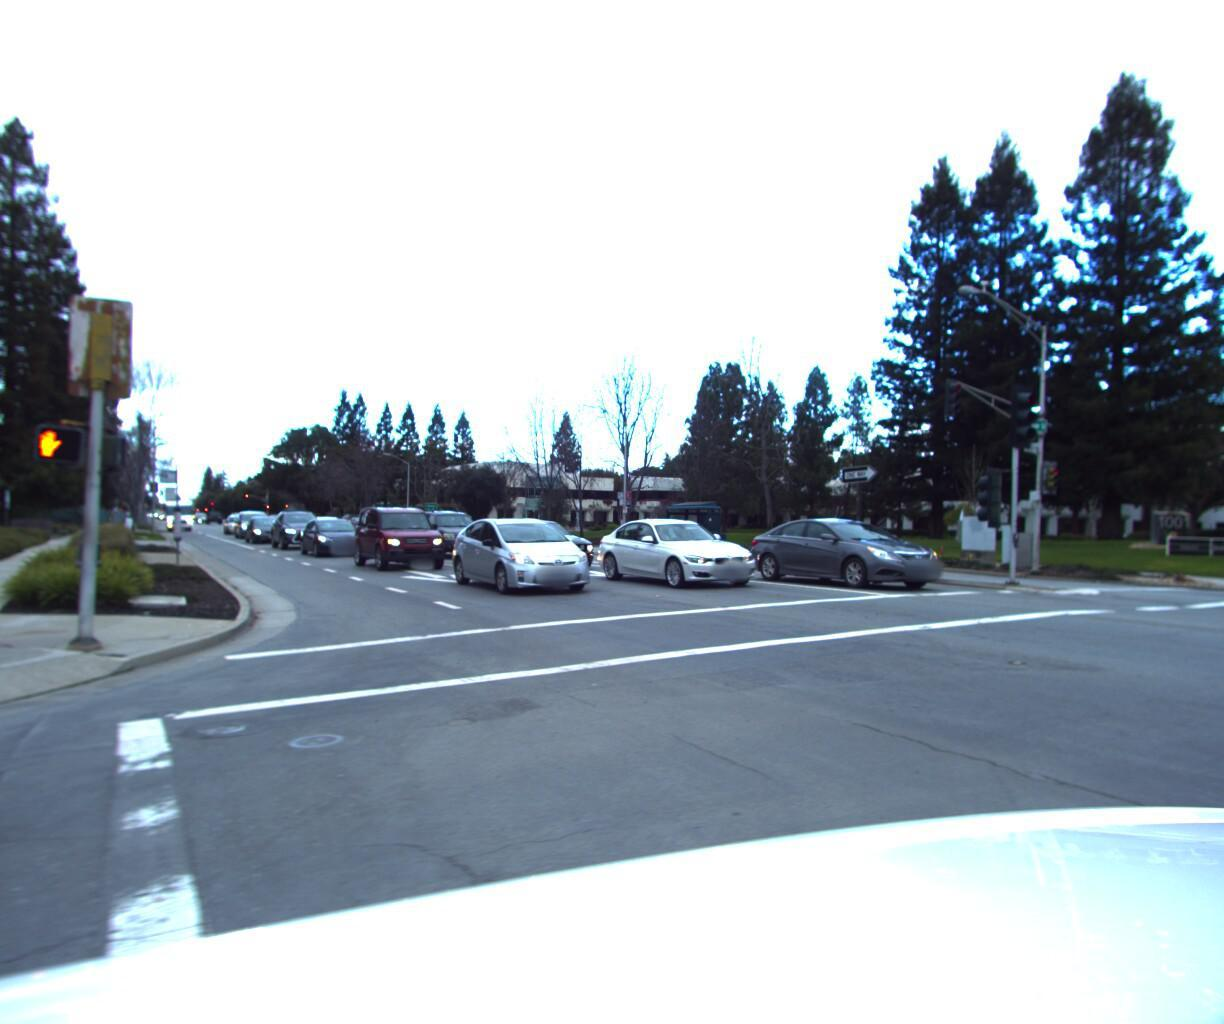car: (741, 504, 958, 592), (588, 509, 769, 588), (441, 506, 602, 594), (477, 513, 603, 574), (346, 500, 452, 567), (401, 501, 493, 550), (293, 514, 368, 557), (263, 506, 331, 549), (240, 518, 289, 545), (299, 510, 344, 537)
truck: (157, 497, 194, 533)
